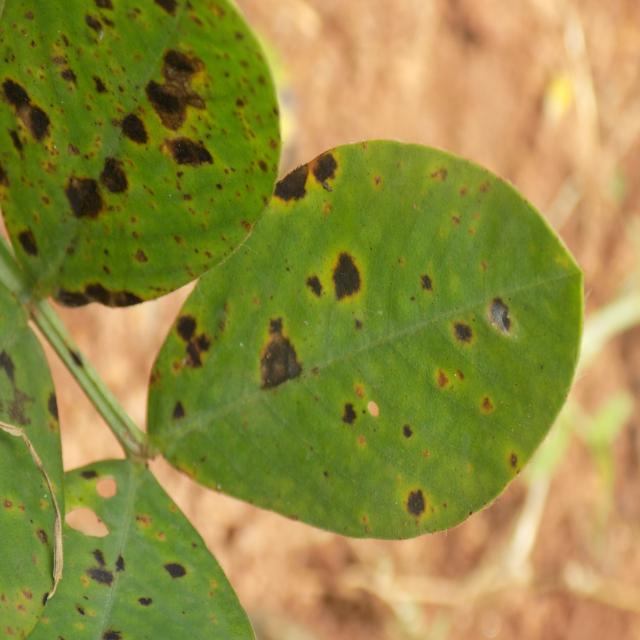Ground nut_tikka leaf spot: (143, 139, 581, 542)
